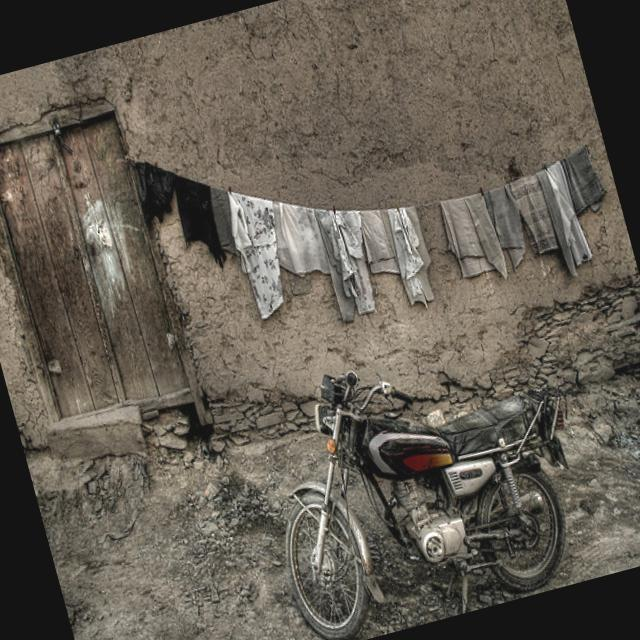Vehicle: (237, 314, 606, 640)
